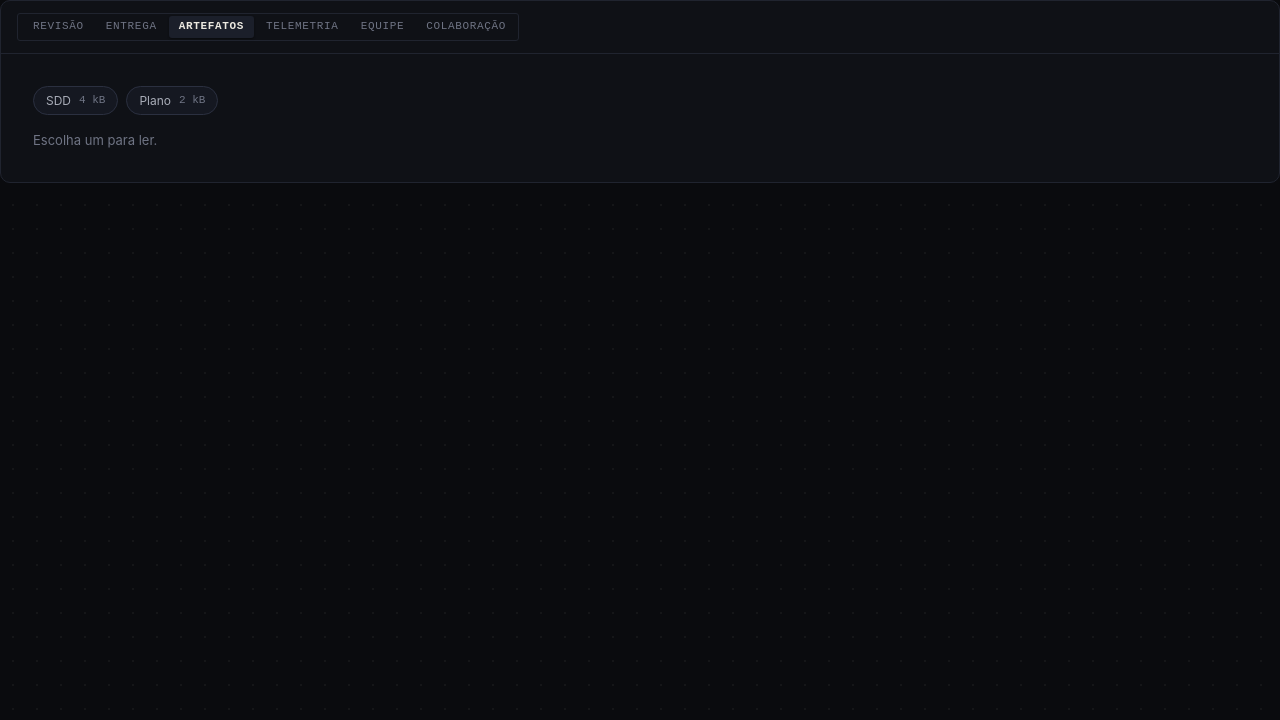
what the run wrote down › offers only the artifacts that exist, and reads one as text
The image size is (1280, 720).
Expected: the tab "Plano 2 kB" is shown, [126, 86, 218, 115]
Step 1. Click the tab "SDD 4 kB" → {"x": 76, "y": 101}, box [33, 86, 118, 115]
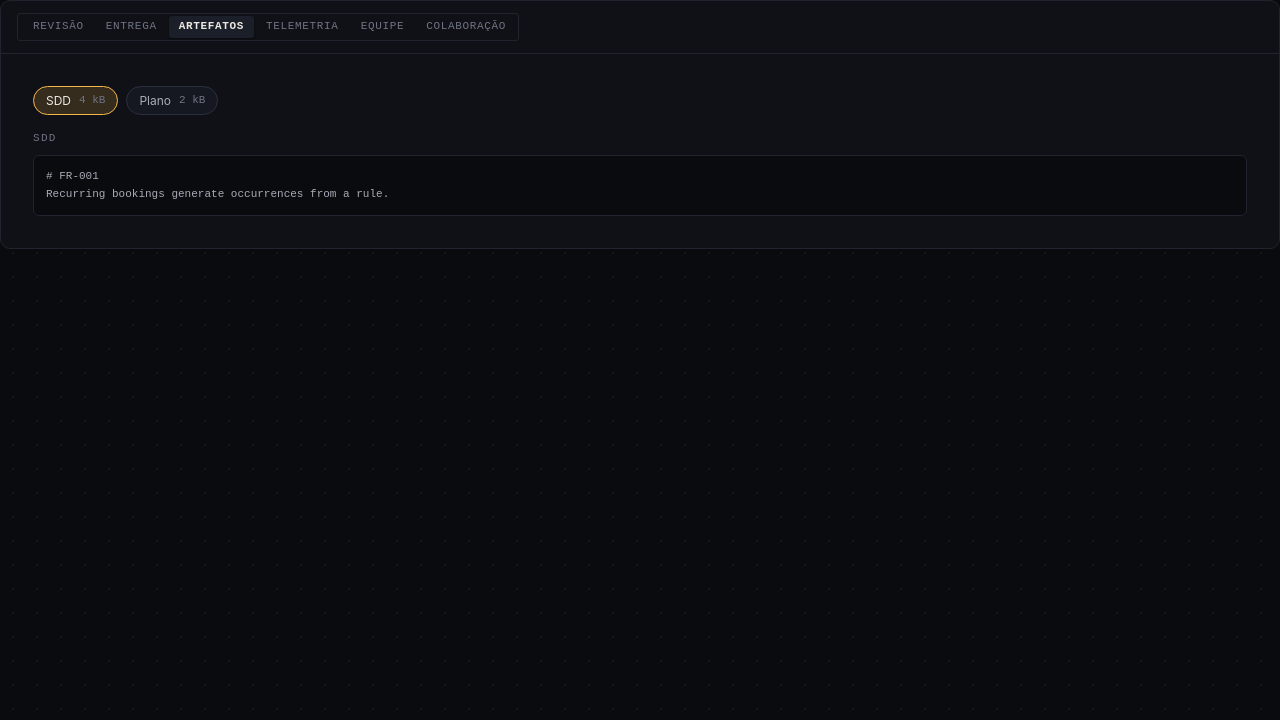
Now the text "Recurring bookings generate occurrences" is shown, box [46, 170, 389, 200]
